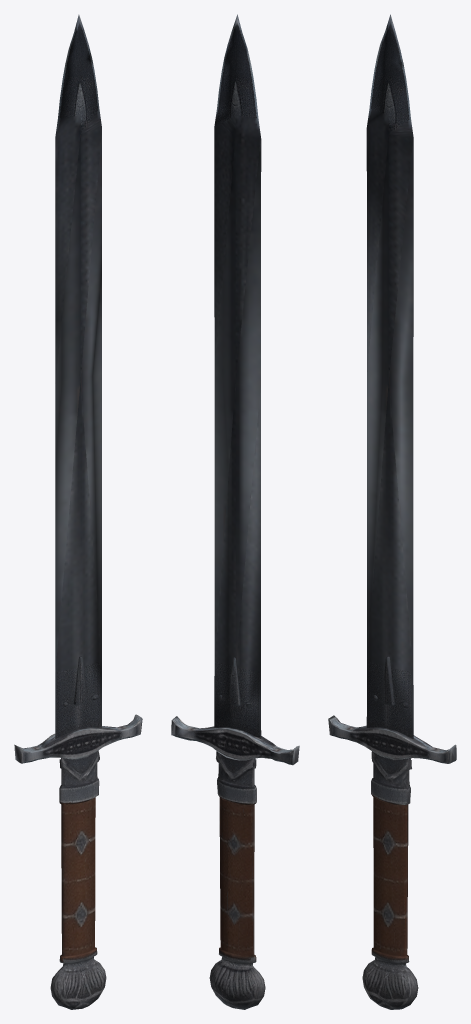
The model's file is w_knight_sword.glb.
The picture shows the model from 3 angles, left to right: view 1: azimuth 30°, elevation 25°; view 2: azimuth 150°, elevation 25°; view 3: azimuth 330°, elevation 25°; orthographic projection.
Size of the model in its own units: 0.1226 by 0.9507 by 0.0229.
1 material, 1 textured.
